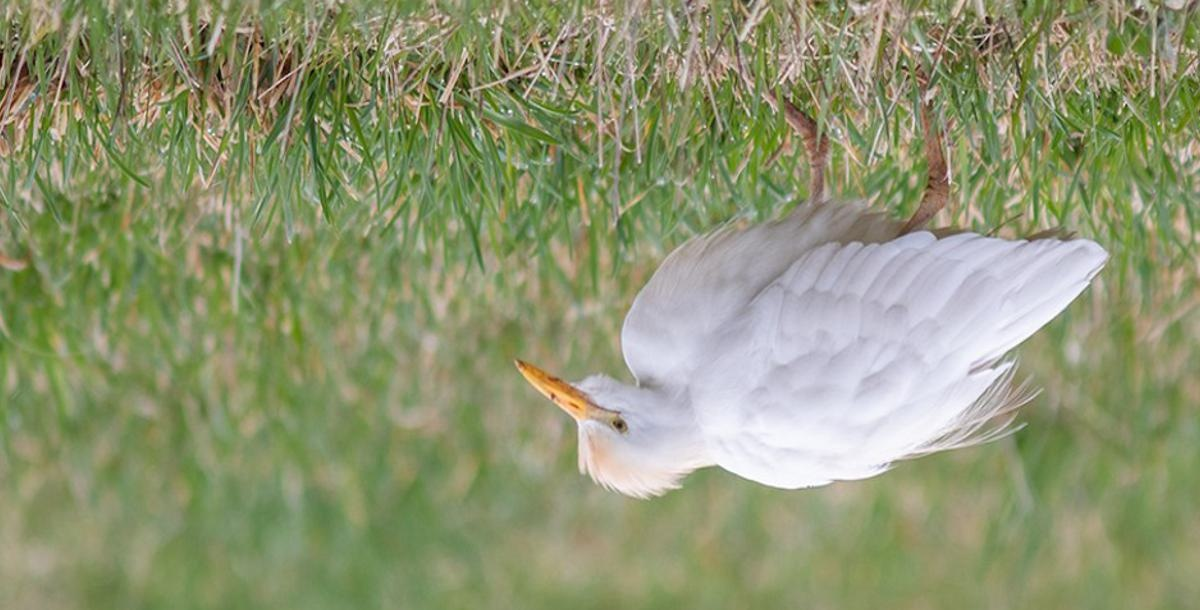egret: (511, 36, 1150, 529)
